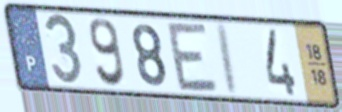3: (43, 10, 86, 90)
4: (265, 27, 298, 98)
8: (130, 22, 170, 89)
9: (88, 16, 127, 90)
E: (164, 20, 222, 96)
I: (216, 20, 241, 99)
